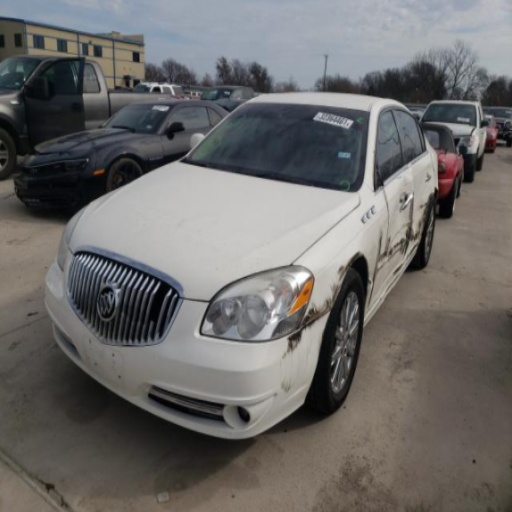dent: (378, 169, 435, 289)
scratch: (277, 255, 356, 370), (370, 192, 432, 306), (388, 251, 413, 291), (282, 384, 296, 394)
